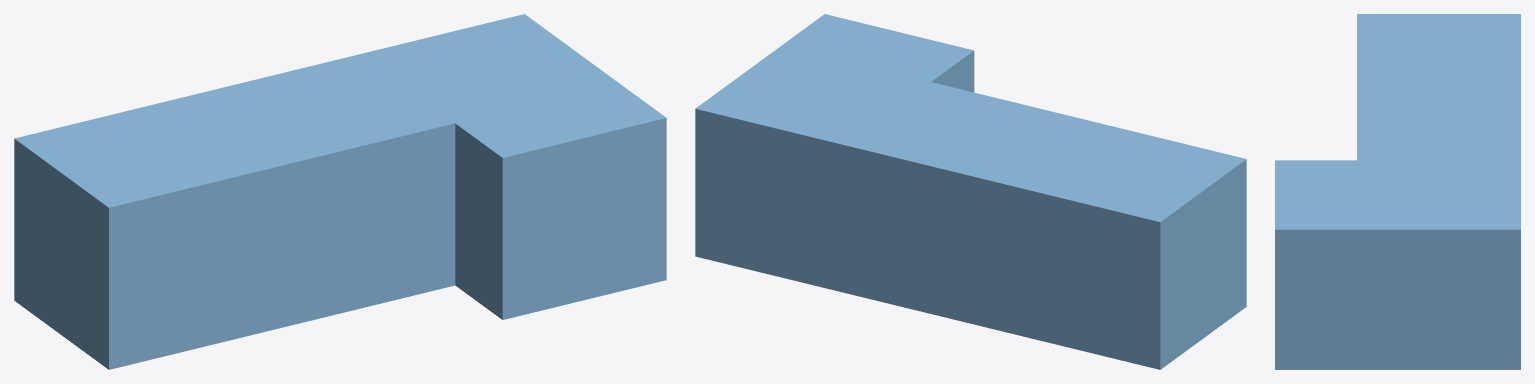
The picture shows the model from 3 angles, left to right: view 1: azimuth 30°, elevation 25°; view 2: azimuth 150°, elevation 25°; view 3: azimuth 270°, elevation 25°; orthographic projection. The views are drawn at different scales.
Visible parts, largest first — view 1: sofa-long, sofa-short; view 2: sofa-long, sofa-short; view 3: sofa-long, sofa-short.
Boxes of the visible parts, <box> form: sofa-long: <box>14,14,618,369</box>; sofa-short: <box>410,49,666,319</box>; sofa-long: <box>695,45,1246,369</box>; sofa-short: <box>738,14,974,113</box>; sofa-long: <box>1357,14,1520,369</box>; sofa-short: <box>1275,160,1438,369</box>.
Size of the model in its own units: 2.8 by 0.85 by 1.35.
